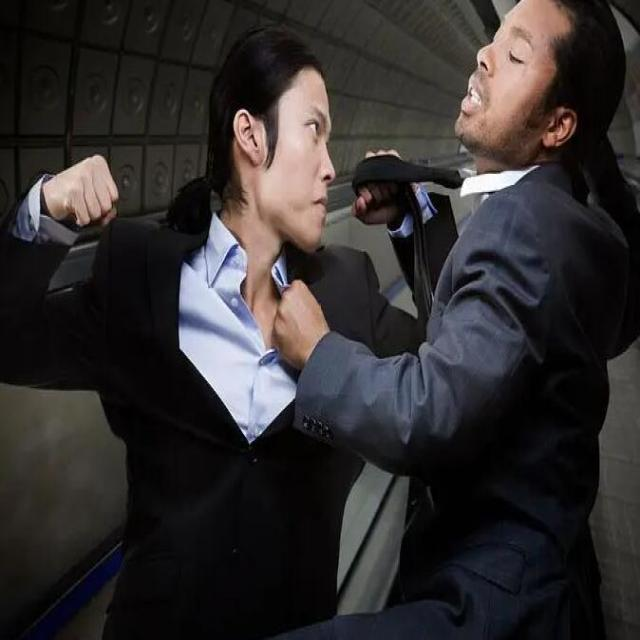fight: (138, 8, 633, 464)
